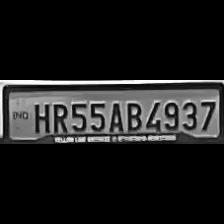3: (179, 99, 197, 131)
4: (142, 99, 162, 131)
5: (68, 100, 86, 132), (88, 100, 106, 132)
7: (198, 99, 216, 131)
9: (160, 99, 180, 130)
A: (106, 100, 122, 132)
B: (122, 99, 142, 131)
H: (28, 100, 50, 134)
R: (50, 100, 68, 134)
